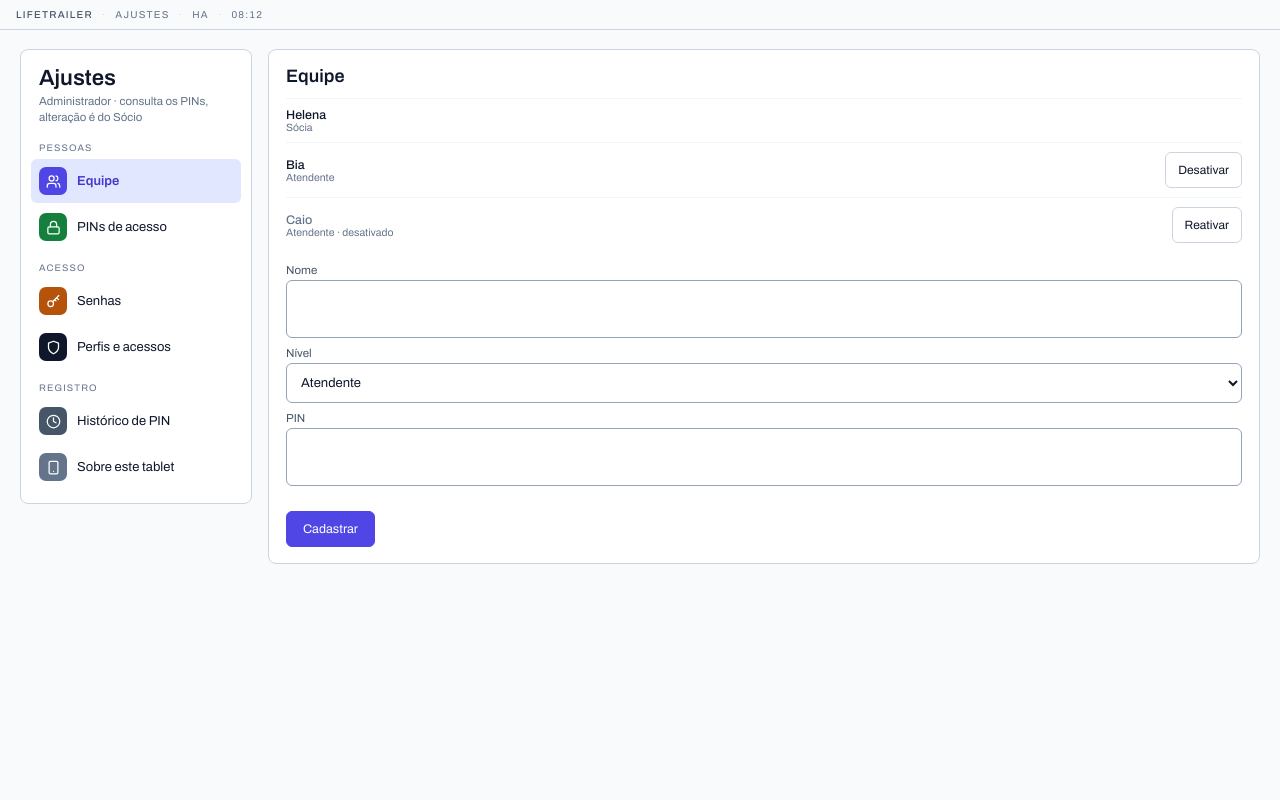
Test case: equipe: desativar pede confirmação e manda pessoa, estado e versão
Step 1. Click the button "Desativar" → x=1204, y=170, box [1165, 152, 1242, 188]
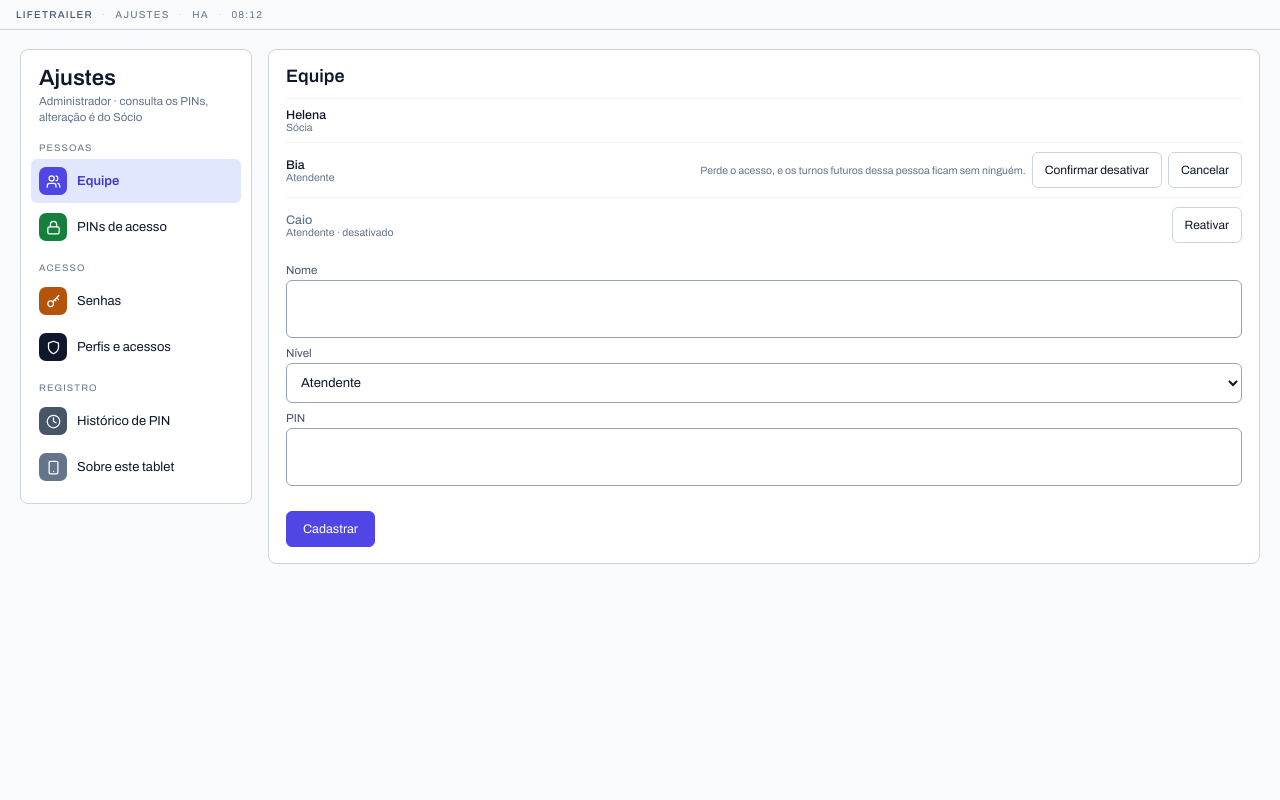
Check: the text "turnos futuros" is shown, box [700, 164, 1026, 176]
Step 2. Click the button "Confirmar desativar" → x=1097, y=170, box [1032, 152, 1162, 188]
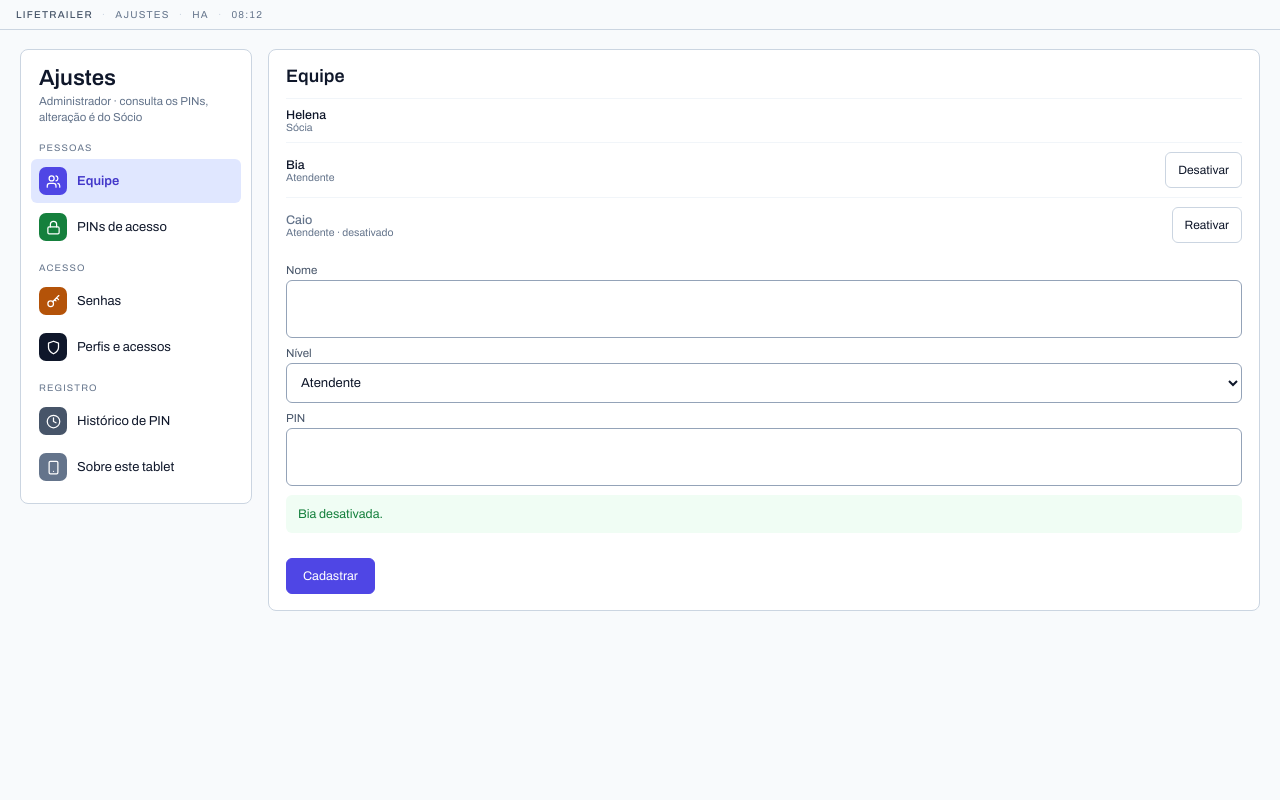
Check: the text "Bia desativada." is shown, box [286, 495, 1242, 533]
